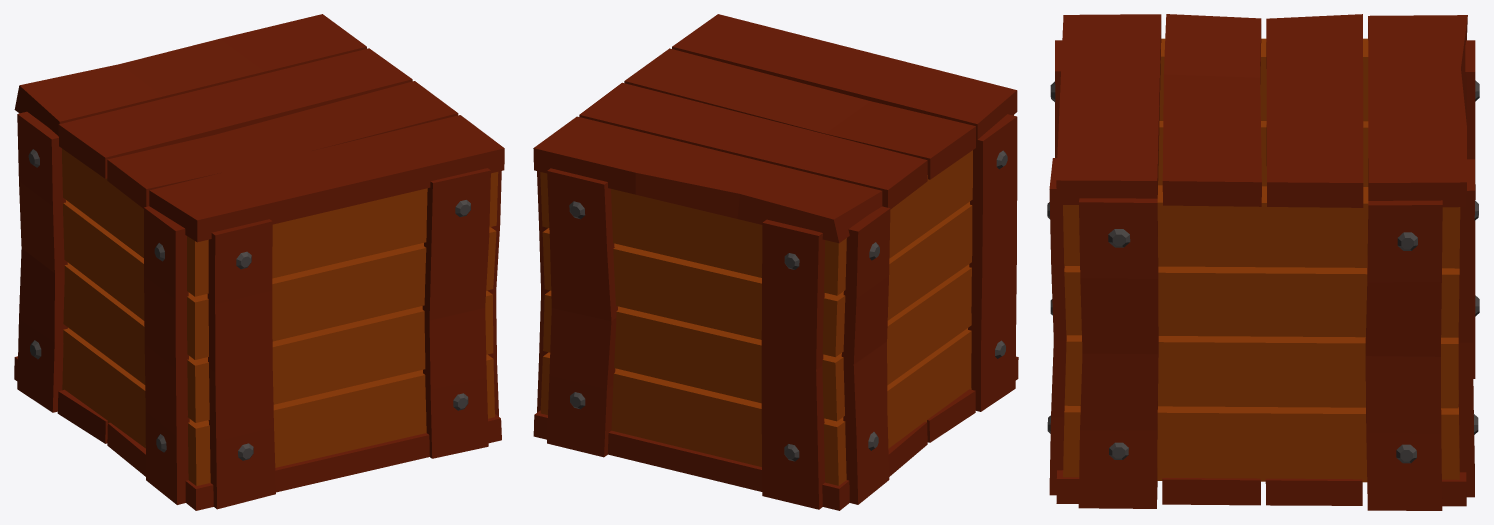
Rendered from chest-medium-v293.glb.
3 views of the same model, side by side, from view 1: azimuth 30°, elevation 25°; view 2: azimuth 150°, elevation 25°; view 3: azimuth 270°, elevation 25° (orthographic). The views are drawn at different scales.
Visible parts, largest first — view 1: Item20; view 2: Item20; view 3: Item20.
Boxes of the visible parts, left/top/right/bottom form: Item20: left=14, top=14, right=504, bottom=510; Item20: left=533, top=14, right=1018, bottom=510; Item20: left=1047, top=14, right=1479, bottom=510.
Size of what is drawn, in the model's own units: 0.6418 by 0.543 by 0.6515.
Materials: 1 (1 with a texture image).
